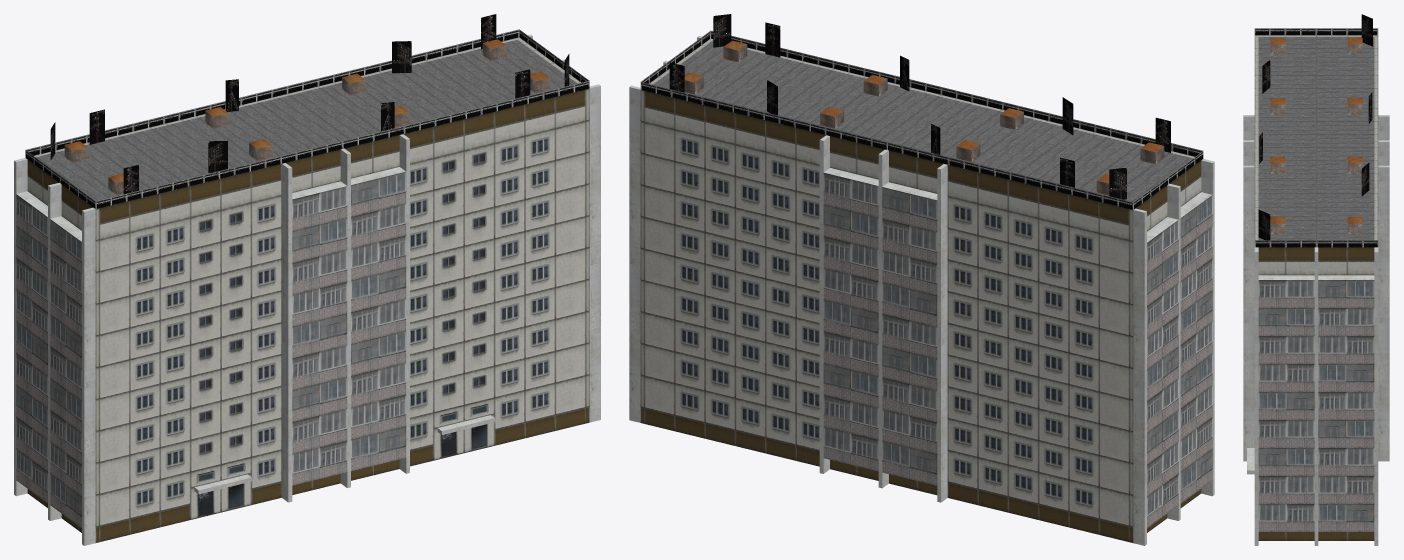
Rendered from rus_build_9et_03a.fbx.
The picture shows the model from 3 angles, left to right: view 1: azimuth 30°, elevation 25°; view 2: azimuth 150°, elevation 25°; view 3: azimuth 270°, elevation 25°; orthographic projection. The views are drawn at different scales.
Visible parts, largest first — view 1: Regroup13, rus_build_dec_01; view 2: Regroup13, rus_build_dec_01; view 3: Regroup13, rus_build_dec_01.
Part boxes in pixels (x1,y1,x2,y2): Regroup13: (14,34,600,545); rus_build_dec_01: (25,14,589,208); Regroup13: (629,36,1214,545); rus_build_dec_01: (640,14,1203,209); Regroup13: (1243,35,1389,545); rus_build_dec_01: (1254,14,1378,247).
Bounding box in the file's own units: 4760 × 3220 × 1330.
